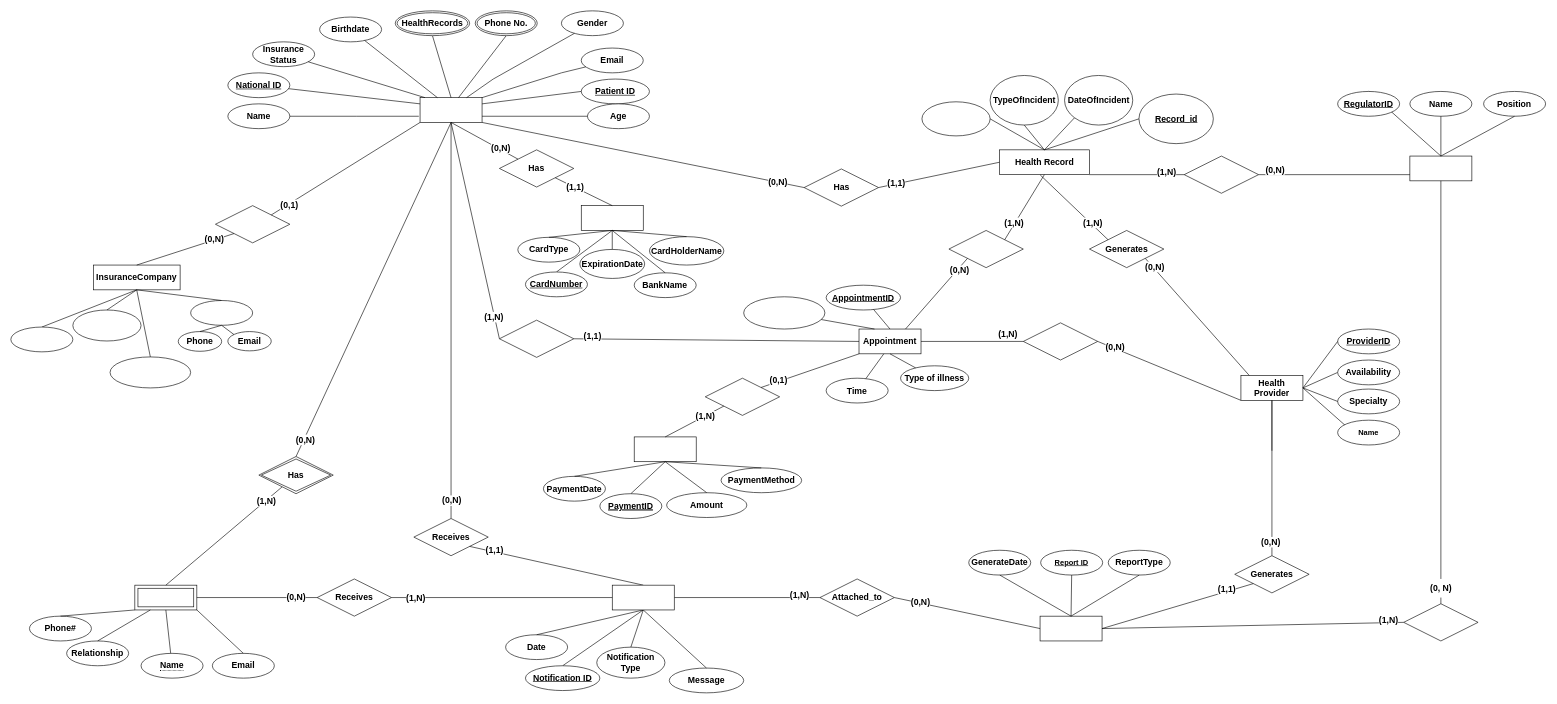
Some shapes in this 1557 by 704 pixel diagram are drawn without their labels. Each missing label, with the centre of its shape:
Access: point 1221,174
Assigned_to: point 1060,341
Card: point 612,217
Care Giver: point 165,597
CompanyName: point 106,325
ContactInfo: point 221,312
Costs: point 742,396
Covered_by: point 252,224
Details: point 955,118
EmergencyStatus: point 784,312
Government Regulator: point 1440,168
InsuranceID: point 41,339
InsurancePackage: point 150,372
Involves: point 985,249
Notification: point 643,597
Patient: point 450,109
Payment: point 665,449
Report: point 1070,628
Requests: point 536,338
Run: point 1440,622
